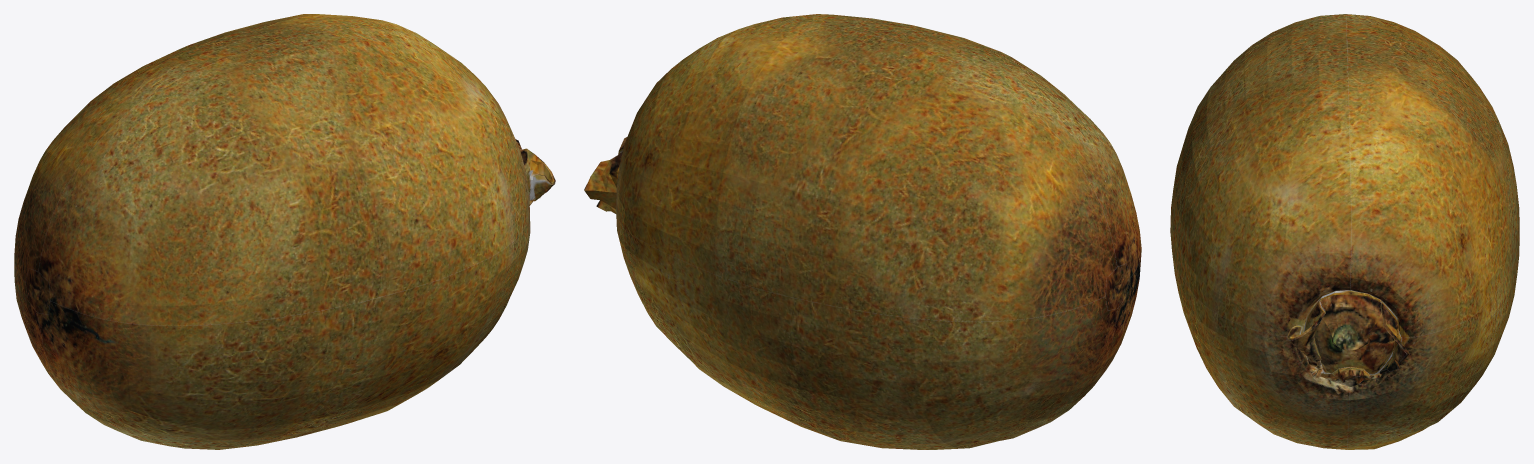
File: kiwi.obj
3 renders of one model, left to right at view 1: azimuth 30°, elevation 25°; view 2: azimuth 150°, elevation 25°; view 3: azimuth 270°, elevation 25°, orthographic. The views are drawn at different scales.
Parts seen in each view (by area): view 1: fruit; view 2: fruit; view 3: fruit.
Boxes of the visible parts, <box> form: fruit: <box>14,14,555,449</box>; fruit: <box>584,14,1141,449</box>; fruit: <box>1170,14,1519,449</box>.
Bounding box in the file's own units: 8.64 × 6.26 × 5.4.
